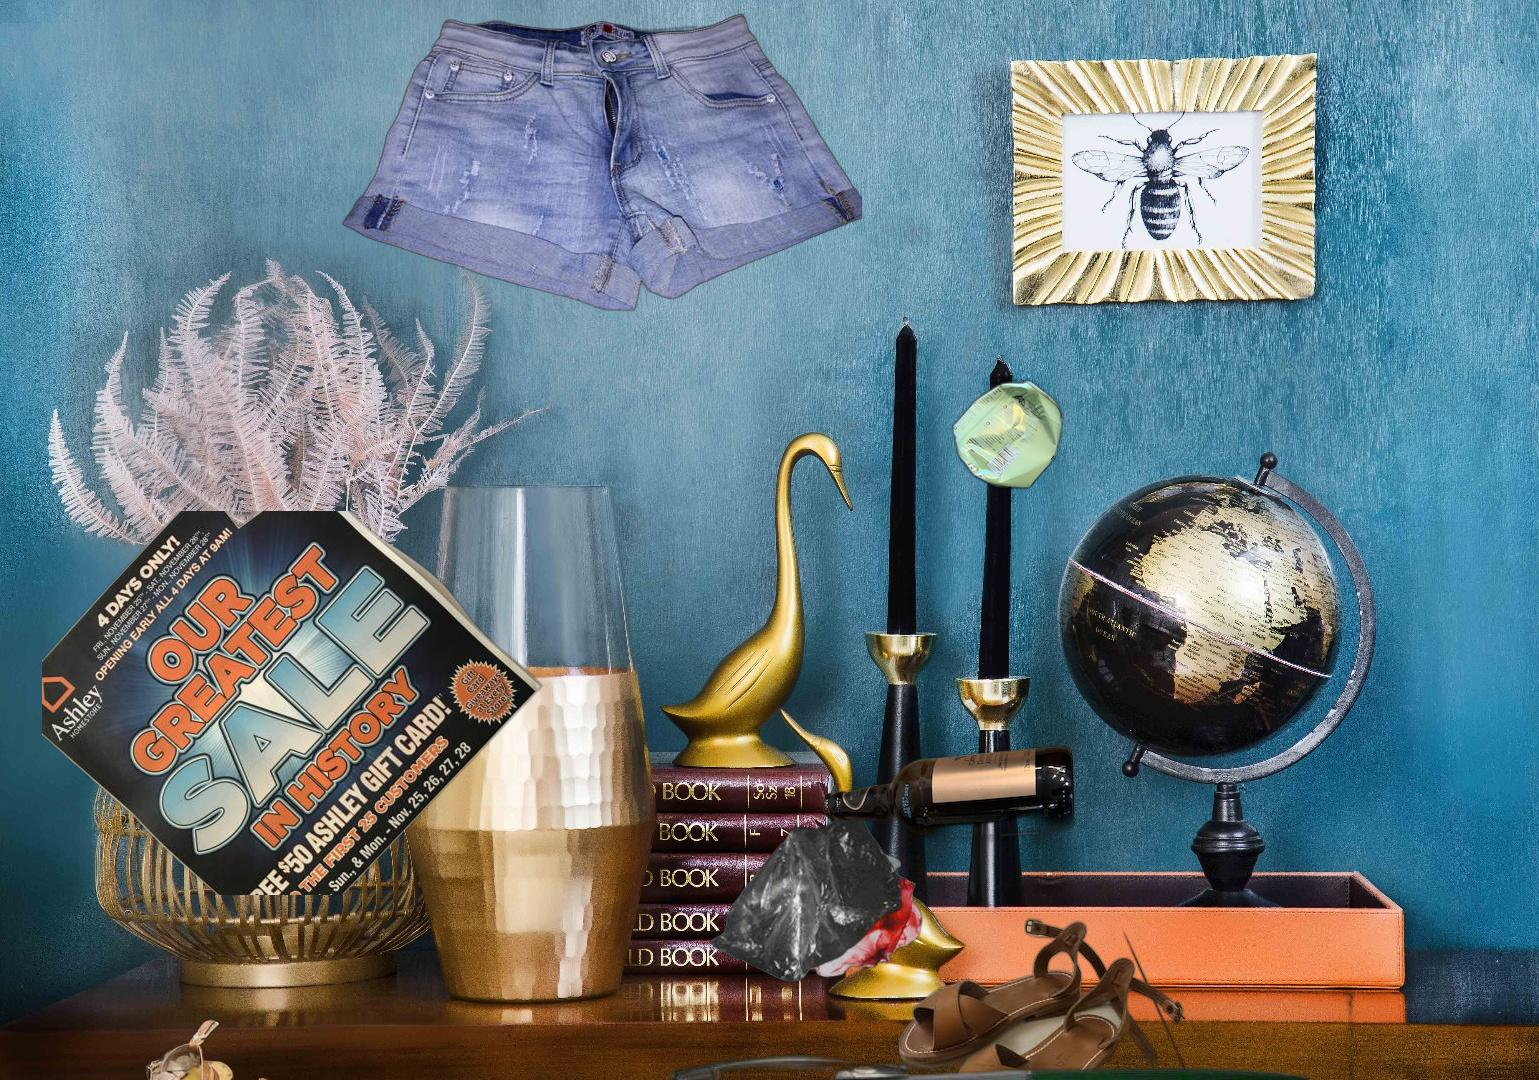clothes: (337, 11, 862, 314)
glass: (817, 728, 1220, 858)
metal-cans: (948, 374, 1067, 496)
paper: (42, 511, 546, 895)
penholder: (585, 898, 1359, 1080)
plastic-bag: (708, 809, 926, 985)
shoes: (895, 914, 1234, 1080), (112, 1016, 287, 1080)
